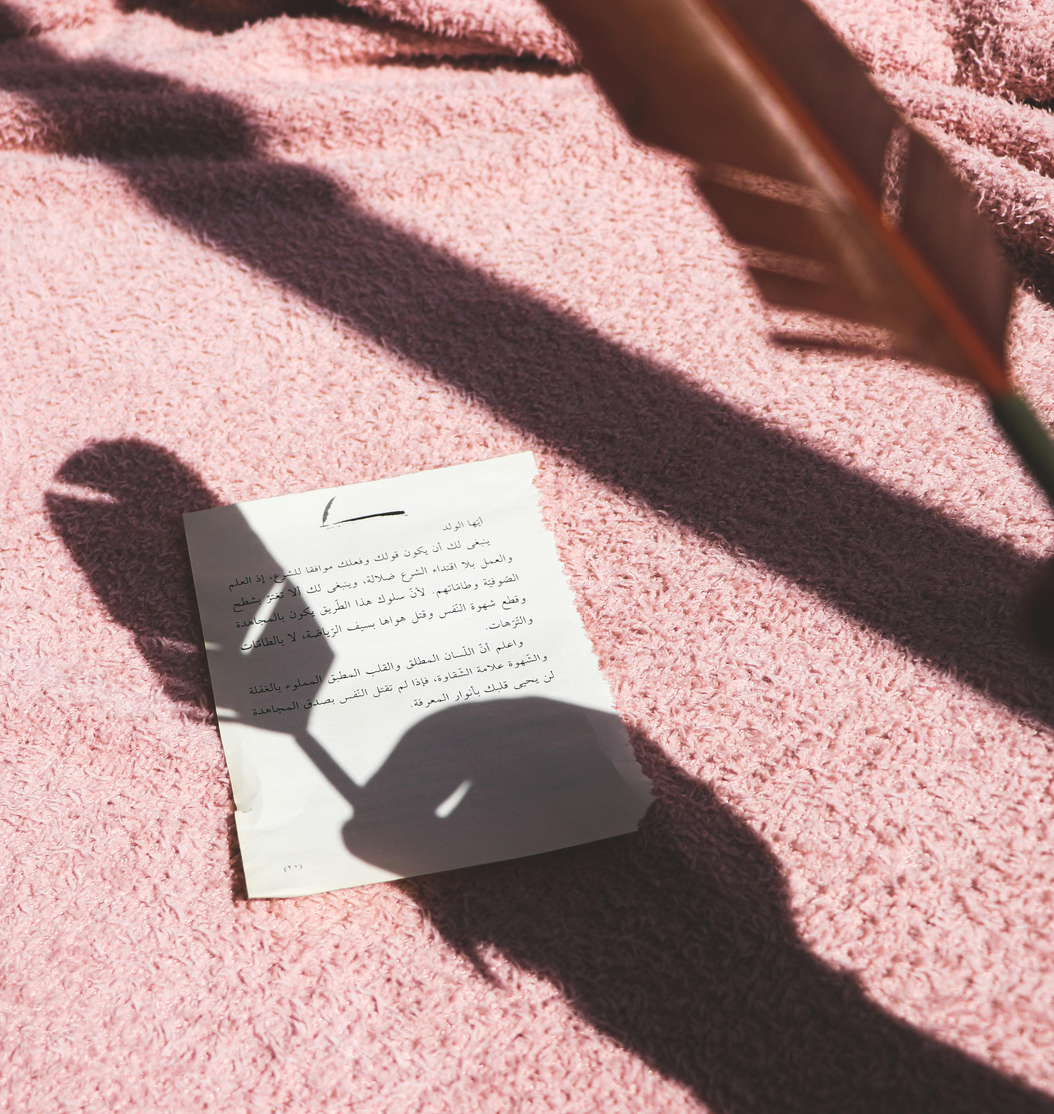paper: (179, 448, 656, 899)
